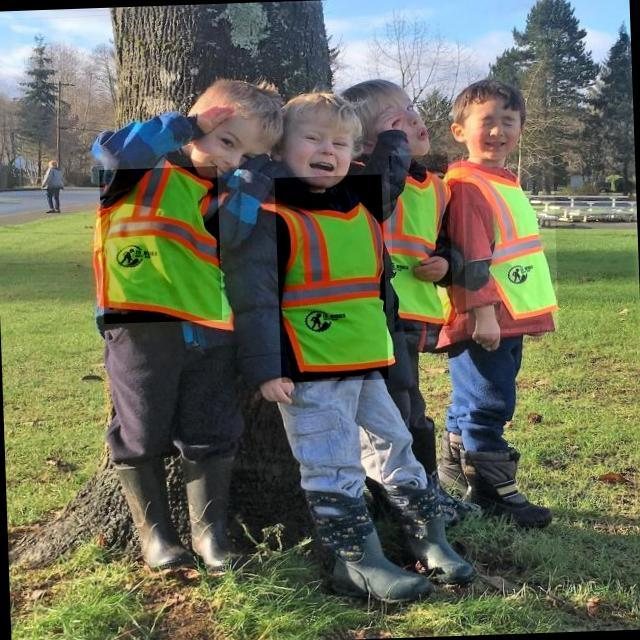Person: (86, 40, 282, 597), (448, 58, 572, 538), (360, 66, 459, 594), (284, 80, 356, 627)
Safety Boot: (103, 456, 186, 583), (180, 456, 257, 583), (310, 489, 393, 595), (400, 479, 473, 594), (468, 438, 552, 530)
Safety Vest: (274, 174, 388, 383), (99, 166, 222, 324), (461, 155, 559, 334), (389, 154, 454, 332)
bare-arms: (473, 302, 512, 376), (402, 244, 453, 293), (254, 374, 311, 417), (194, 88, 230, 135), (363, 103, 410, 138)
no-helmet: (187, 72, 284, 141), (283, 89, 363, 149), (344, 73, 423, 119), (453, 79, 526, 120)
